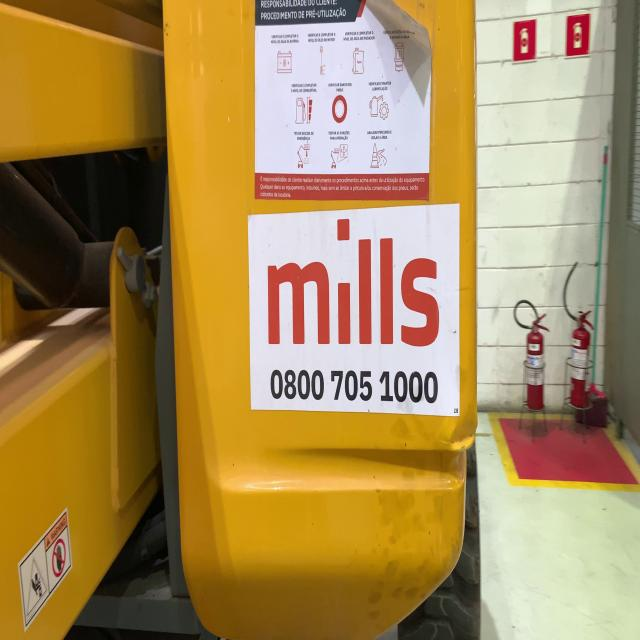Adesivos: (243, 197, 463, 425)
